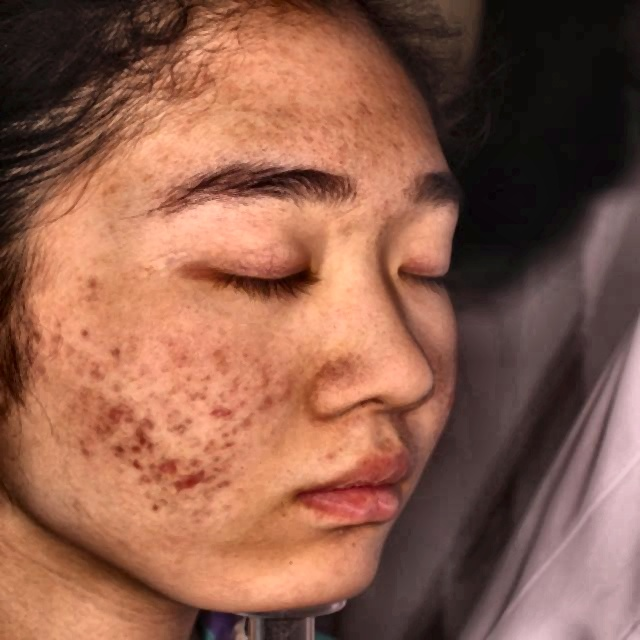pustule: (207, 435, 245, 468), (85, 421, 122, 452), (176, 463, 208, 495), (210, 397, 243, 421), (84, 352, 115, 377), (128, 451, 146, 484), (130, 431, 161, 449), (100, 407, 136, 422), (134, 414, 161, 431), (48, 333, 70, 353), (84, 271, 104, 289), (155, 456, 181, 469), (79, 323, 100, 336)
